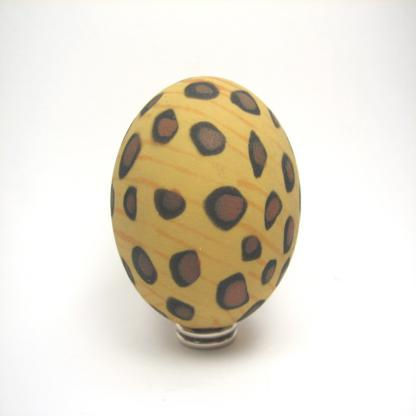Ball: (107, 75, 301, 328)
